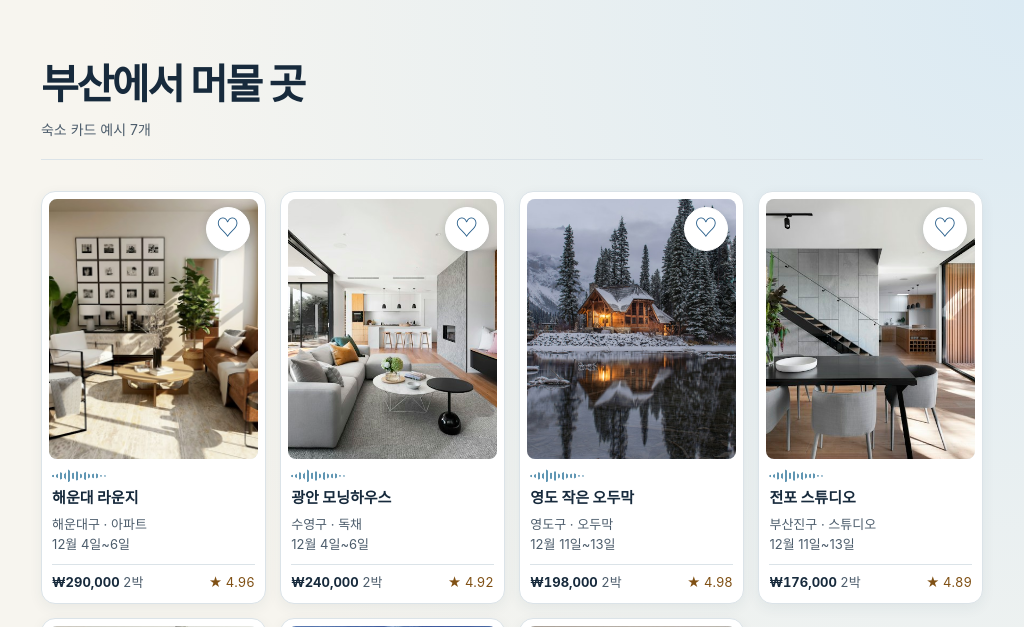
renders seven stay cards and lets each favorite be toggled independently
This screenshot has width=1024, height=627.
Click the button named "해운대 라운지 찜하기" at (228, 229), box [206, 207, 250, 251]
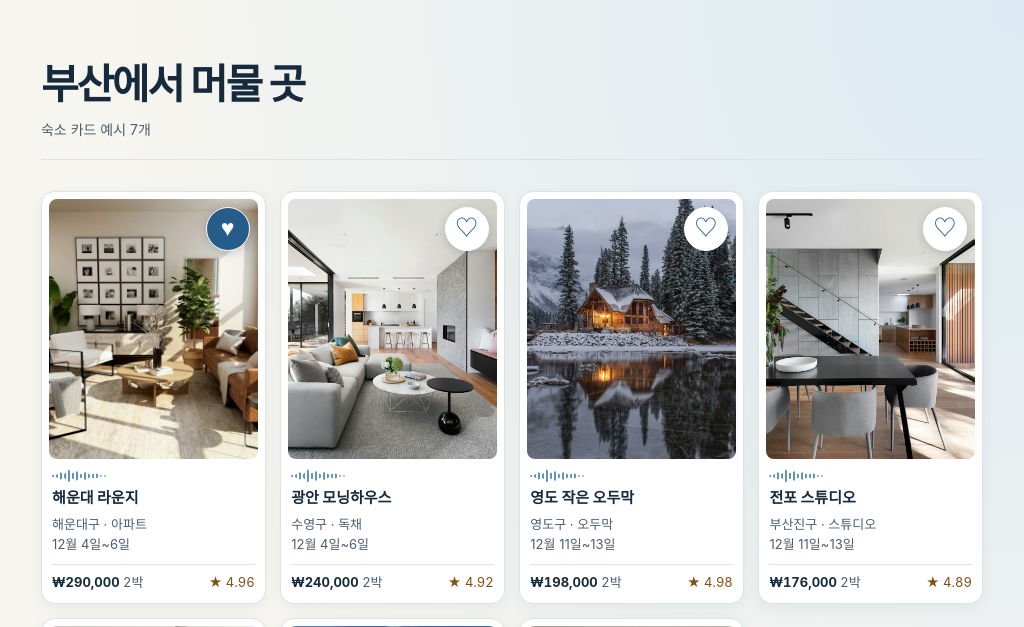
Check: the button named "해운대 라운지 찜하기" is pressed
Click the button named "해운대 라운지 찜하기" at (228, 229), box [206, 207, 250, 251]
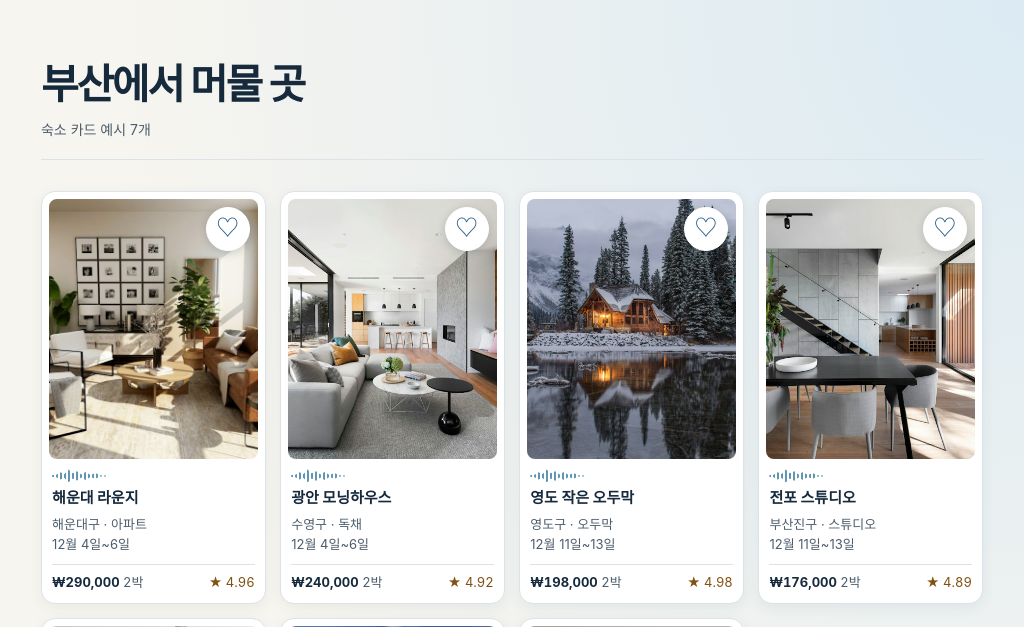
Check: the button named "해운대 라운지 찜하기" is not pressed, box [206, 207, 250, 251]
